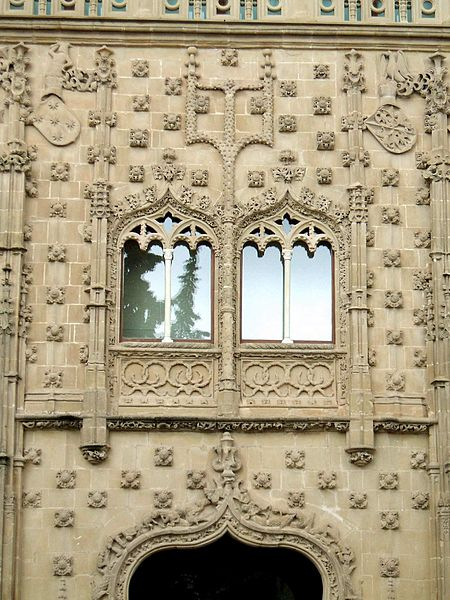arco-conopial: (104, 490, 344, 575), (229, 180, 348, 247), (106, 181, 227, 244)
